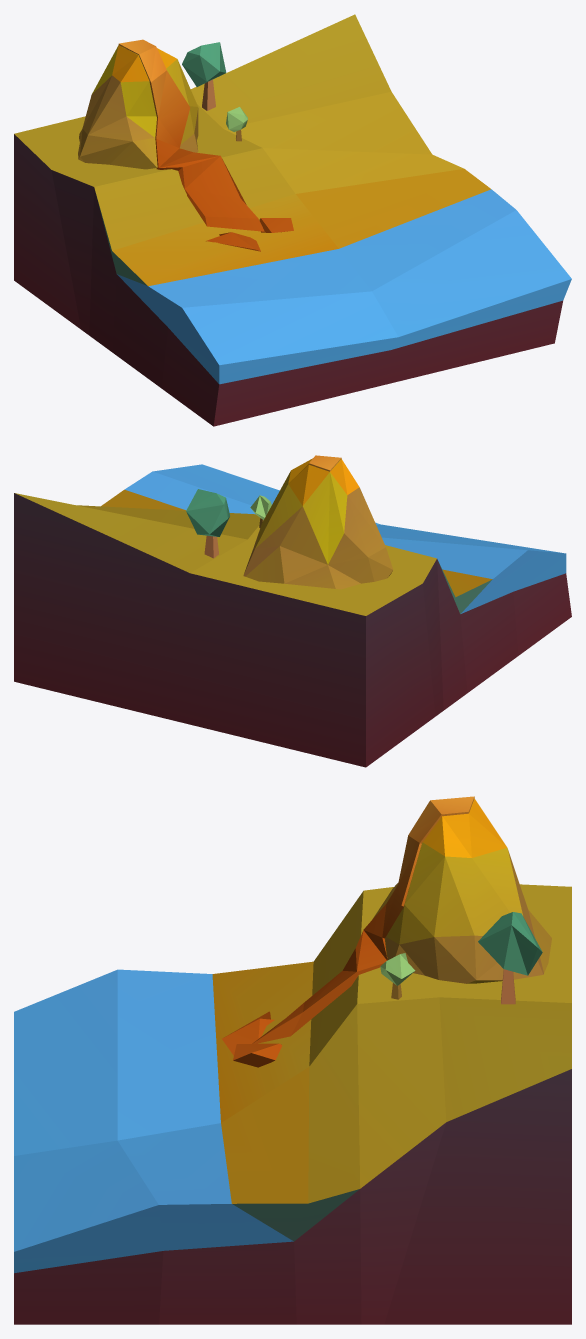
File: volcano.glb
3 views of the same model, one above another, from view 1: azimuth 30°, elevation 25°; view 2: azimuth 150°, elevation 25°; view 3: azimuth 270°, elevation 25° (orthographic). The views are drawn at different scales.
Parts seen in each view (by area): view 1: base, water, flow, volcano, tree2; view 2: base, volcano, water, tree2; view 3: base, water, volcano, flow, tree2, tree1.
Boxes of the visible parts, <box> form: base: <box>14,14,562,426</box>; water: <box>117,189,571,384</box>; flow: <box>118,39,293,251</box>; volcano: <box>78,45,198,169</box>; tree2: <box>182,42,226,110</box>; base: <box>14,489,571,767</box>; volcano: <box>243,458,393,589</box>; water: <box>125,464,566,613</box>; tree2: <box>186,489,229,558</box>; base: <box>14,884,571,1324</box>; water: <box>14,969,293,1273</box>; volcano: <box>372,798,551,983</box>; flow: <box>222,796,474,1067</box>; tree2: <box>478,912,542,1004</box>; tree1: <box>380,953,415,999</box>.
Size of the model in its own units: 8.61 by 5.5 by 8.11.
2 materials, 2 textured.
